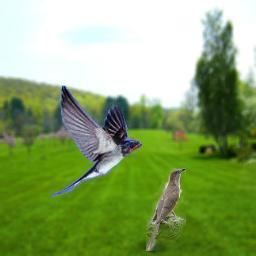Cuckoo: (146, 168, 186, 251)
Swallow: (47, 85, 142, 198)
